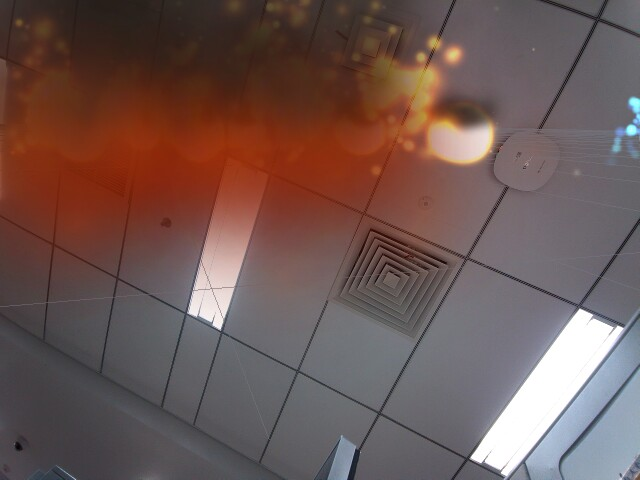fire: (433, 98, 502, 170), (54, 107, 118, 165), (179, 108, 226, 164), (338, 110, 391, 153)
